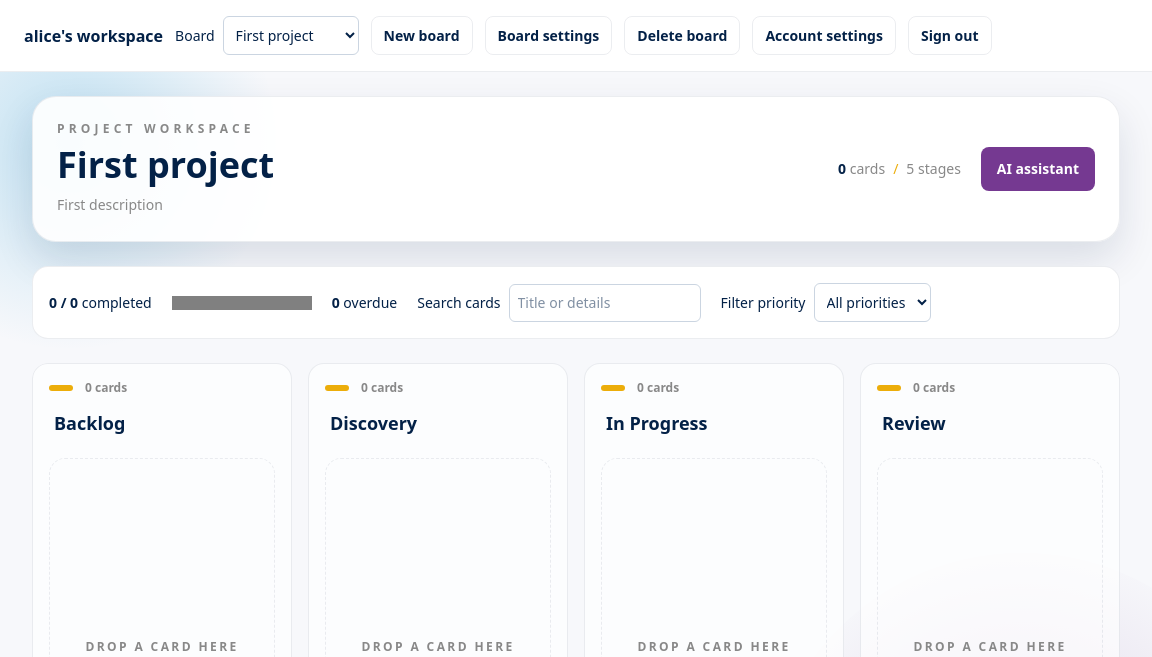
Test: retains a failed board draft and allows cancellation
The width and height of the screenshot is (1152, 657).
Check: the heading "First project" is shown, box [57, 145, 274, 185]
Click the button "New board" at point(422, 36), box [371, 16, 472, 55]
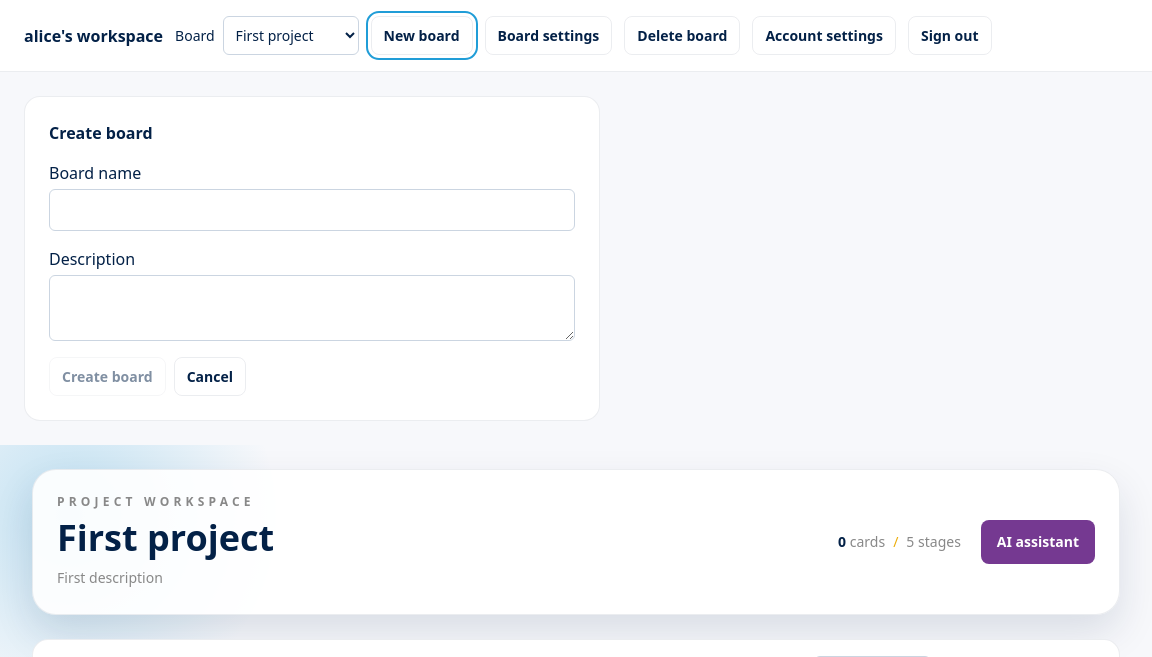
Type "Keep this" into the field labelled "Board name" at point(312, 210), box [49, 189, 575, 231]
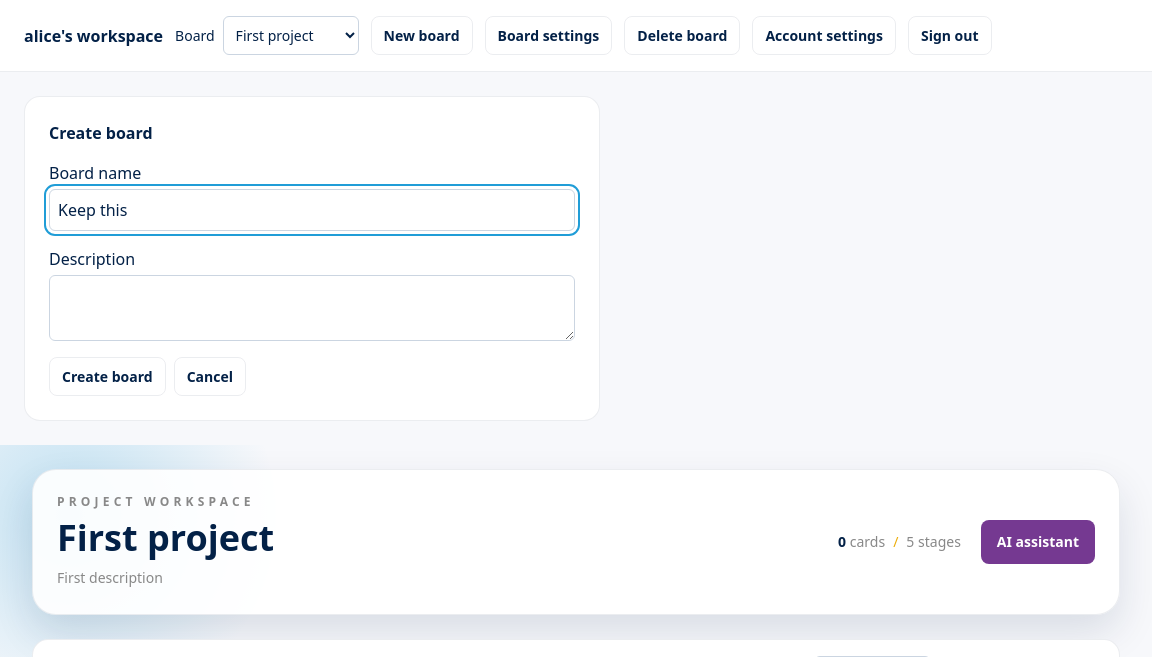
Click the button "Create board" at point(107, 376), box [49, 357, 166, 396]
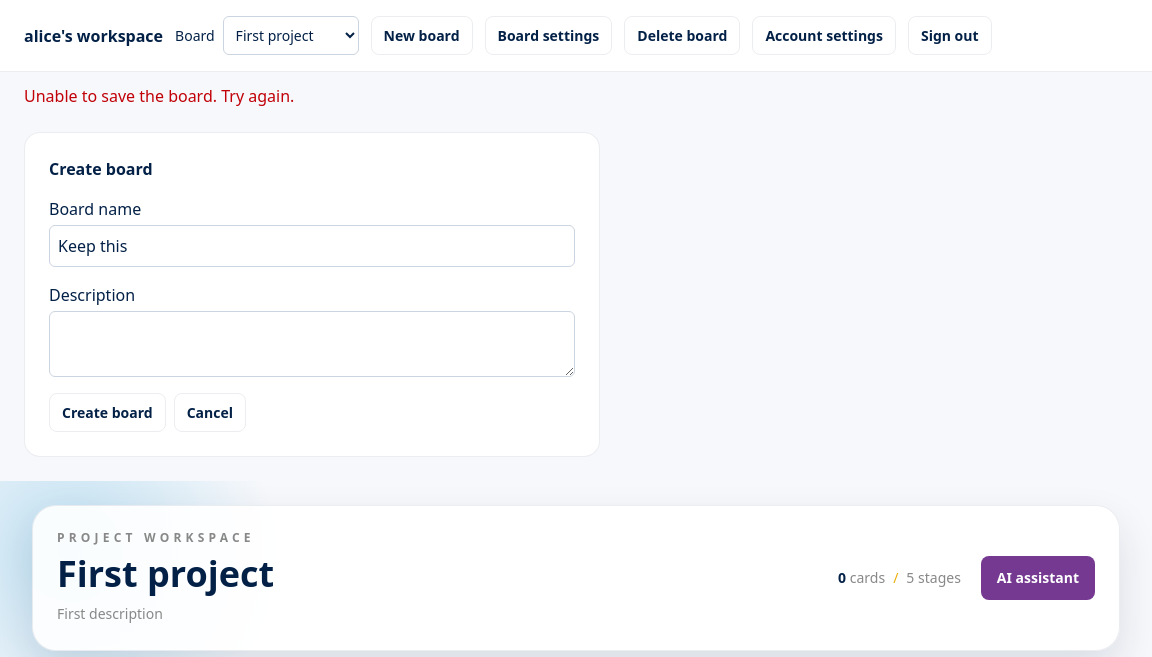
Check: the message shows "Unable to save", box [24, 85, 294, 107]
Click the button "Cancel" at point(210, 412), box [174, 393, 246, 432]
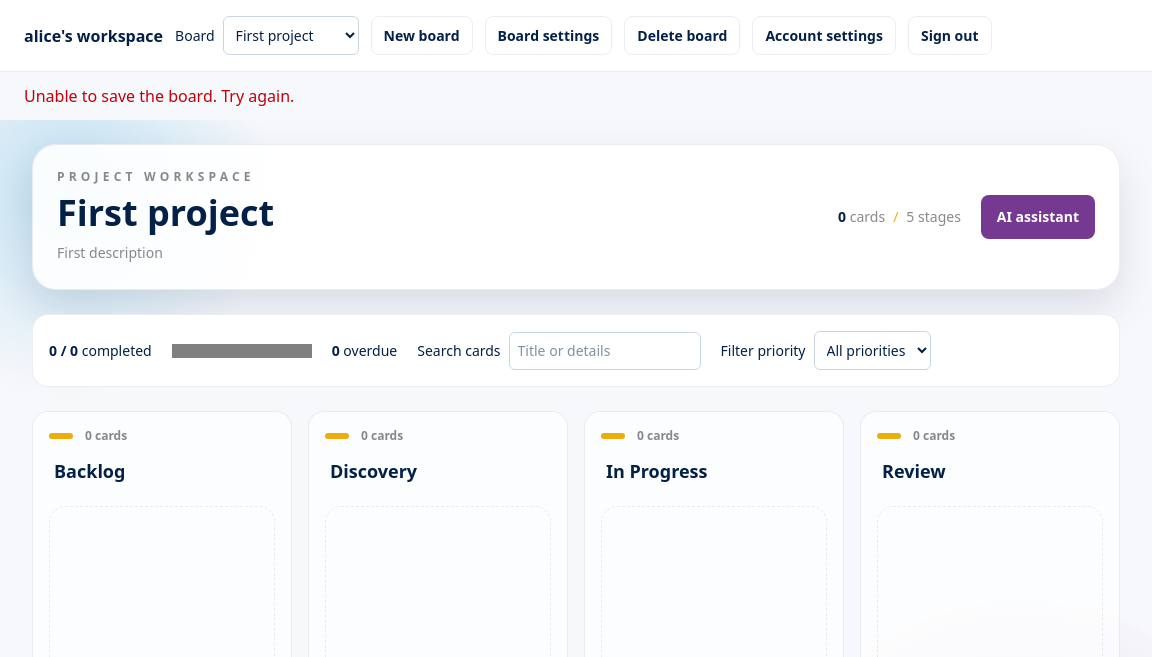
Check: the label labelled "Board name" is gone
